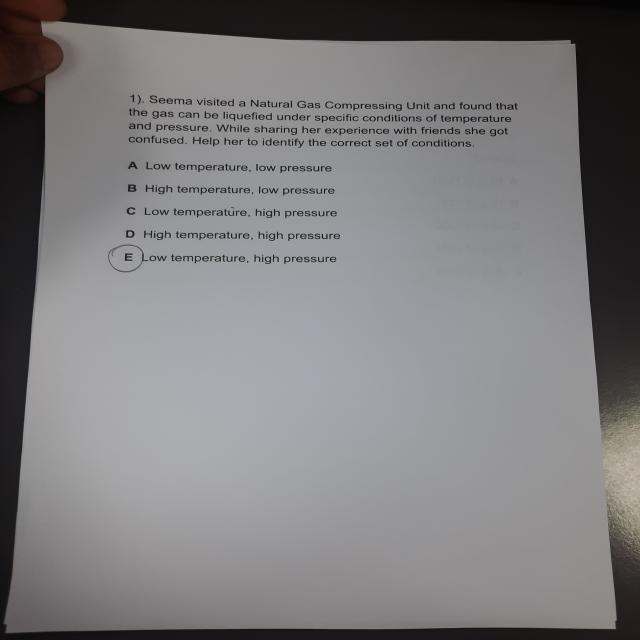E: (106, 243, 148, 277)
